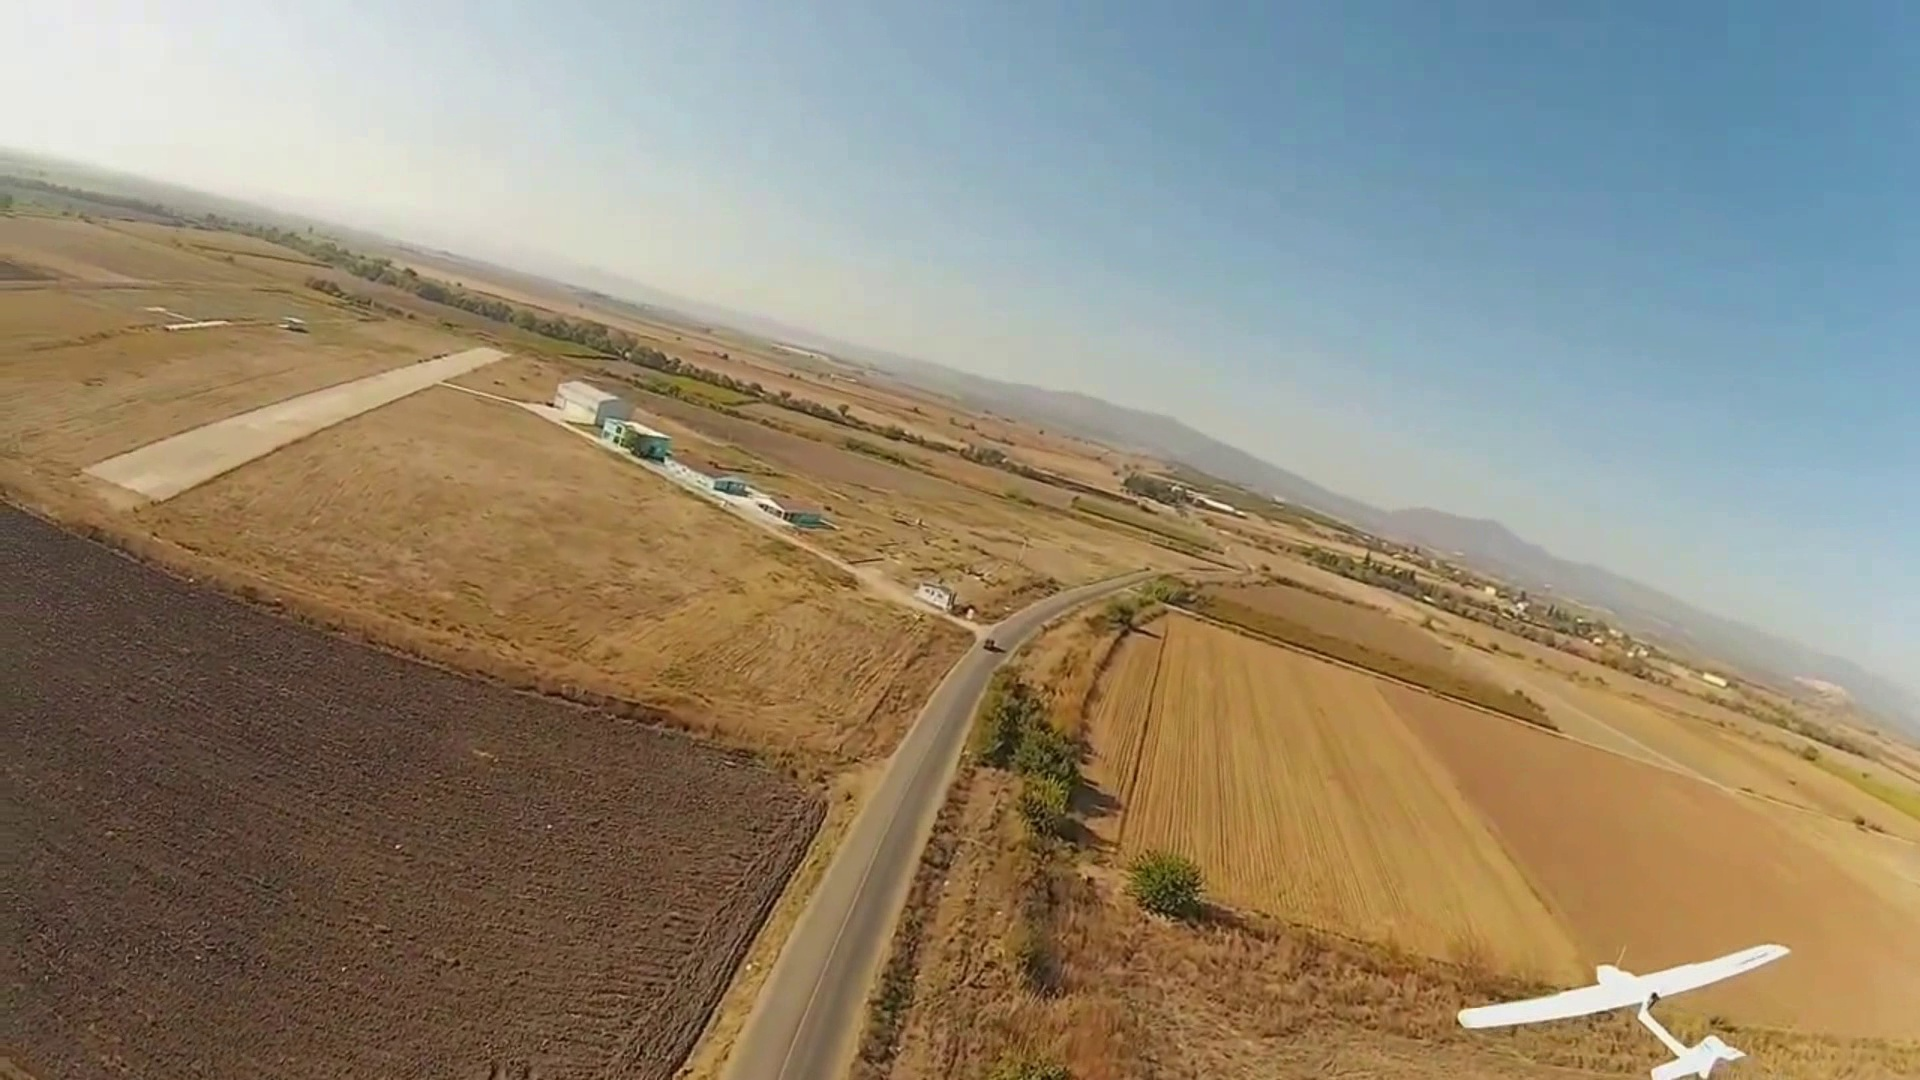airplane: (1456, 945, 1792, 1076)
